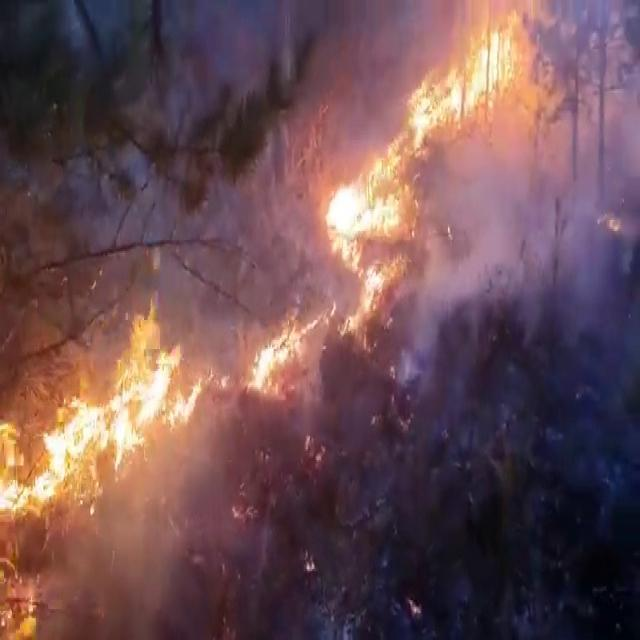Fire: (245, 72, 440, 416), (0, 288, 199, 516), (408, 0, 558, 156)
